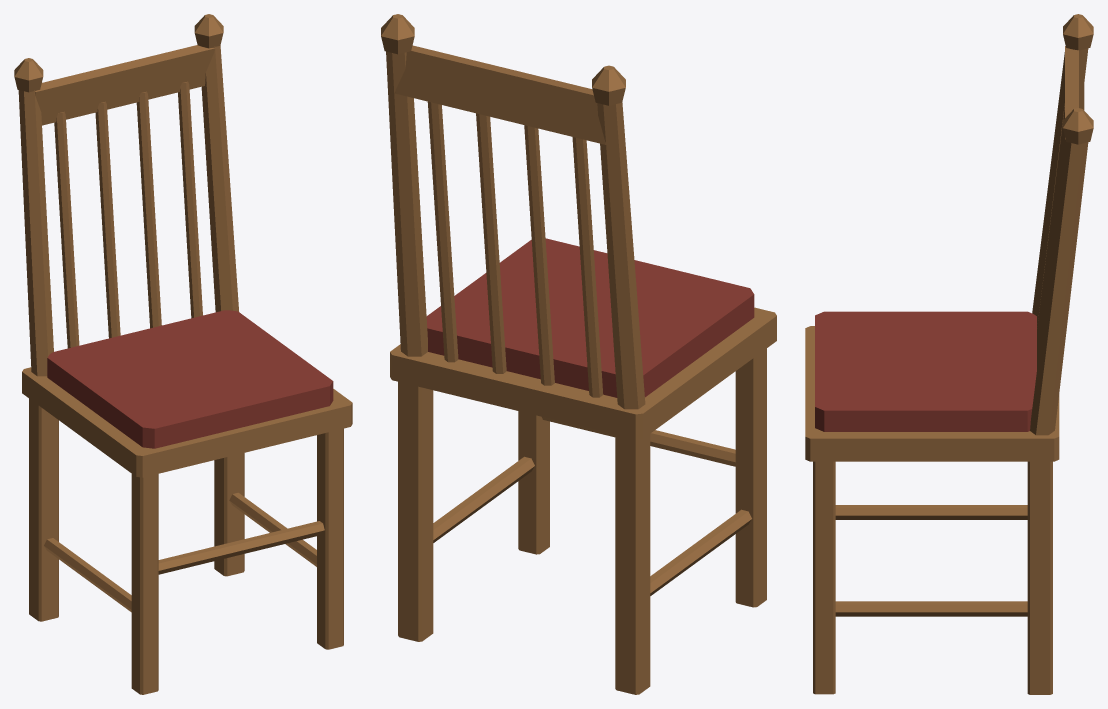
3 views of the same model, side by side, from view 1: azimuth 30°, elevation 25°; view 2: azimuth 150°, elevation 25°; view 3: azimuth 270°, elevation 25° (orthographic). The views are drawn at different scales.
Visible parts, largest first — view 1: chair-0-cushion, chair-0-seat, chair-0-top-rail, chair-0-post--1, chair-0-back-leg--1, chair-0-front-leg--1, chair-0-post-1, chair-0-front-leg-1, chair-0-back-leg-1, chair-0-spindle-0, chair-0-spindle-1, chair-0-spindle-2 (+6 smaller); view 2: chair-0-cushion, chair-0-seat, chair-0-top-rail, chair-0-back-leg--1, chair-0-back-leg-1, chair-0-post--1, chair-0-post-1, chair-0-front-leg--1, chair-0-front-leg-1, chair-0-spindle-3, chair-0-spindle-2, chair-0-spindle-0 (+6 smaller); view 3: chair-0-cushion, chair-0-seat, chair-0-post-1, chair-0-back-leg-1, chair-0-front-leg-1, chair-0-side-rung-1, chair-0-side-rung--1, chair-0-post--1, chair-0-top-rail, chair-0-finial-1, chair-0-finial--1, chair-0-spindle-0 (+1 smaller).
Part boxes in pixels (left/top/right/bottom): chair-0-cushion: left=47, top=310, right=333, bottom=448; chair-0-seat: left=22, top=367, right=352, bottom=477; chair-0-top-rail: left=35, top=45, right=214, bottom=125; chair-0-post--1: left=18, top=90, right=53, bottom=376; chair-0-back-leg--1: left=29, top=398, right=58, bottom=621; chair-0-front-leg--1: left=131, top=474, right=158, bottom=694; chair-0-post-1: left=201, top=45, right=238, bottom=312; chair-0-front-leg-1: left=317, top=428, right=343, bottom=649; chair-0-back-leg-1: left=214, top=453, right=244, bottom=576; chair-0-spindle-0: left=54, top=111, right=79, bottom=348; chair-0-spindle-1: left=95, top=101, right=120, bottom=338; chair-0-spindle-2: left=136, top=91, right=161, bottom=328; chair-0-cushion: left=426, top=238, right=754, bottom=397; chair-0-seat: left=390, top=307, right=776, bottom=439; chair-0-top-rail: left=395, top=45, right=605, bottom=144; chair-0-back-leg--1: left=615, top=434, right=650, bottom=694; chair-0-back-leg-1: left=398, top=381, right=433, bottom=641; chair-0-post--1: left=597, top=102, right=645, bottom=409; chair-0-post-1: left=386, top=51, right=427, bottom=356; chair-0-front-leg--1: left=735, top=348, right=766, bottom=607; chair-0-front-leg-1: left=518, top=411, right=549, bottom=554; chair-0-spindle-3: left=427, top=101, right=458, bottom=362; chair-0-spindle-2: left=476, top=113, right=506, bottom=373; chair-0-spindle-0: left=572, top=137, right=603, bottom=397; chair-0-cushion: left=815, top=311, right=1036, bottom=431; chair-0-seat: left=805, top=326, right=1059, bottom=461; chair-0-post-1: left=1030, top=140, right=1088, bottom=435; chair-0-back-leg-1: left=1027, top=461, right=1052, bottom=694; chair-0-front-leg-1: left=813, top=461, right=835, bottom=694; chair-0-side-rung-1: left=835, top=601, right=1027, bottom=616; chair-0-side-rung--1: left=835, top=505, right=1027, bottom=519; chair-0-post--1: left=1032, top=48, right=1088, bottom=328; chair-0-top-rail: left=1065, top=46, right=1084, bottom=140; chair-0-finial-1: left=1063, top=108, right=1093, bottom=144; chair-0-finial--1: left=1063, top=14, right=1093, bottom=50; chair-0-spindle-0: left=1037, top=107, right=1064, bottom=350.
Size of what is drawn, in the model's own units: 0.42 by 1 by 0.4542.
